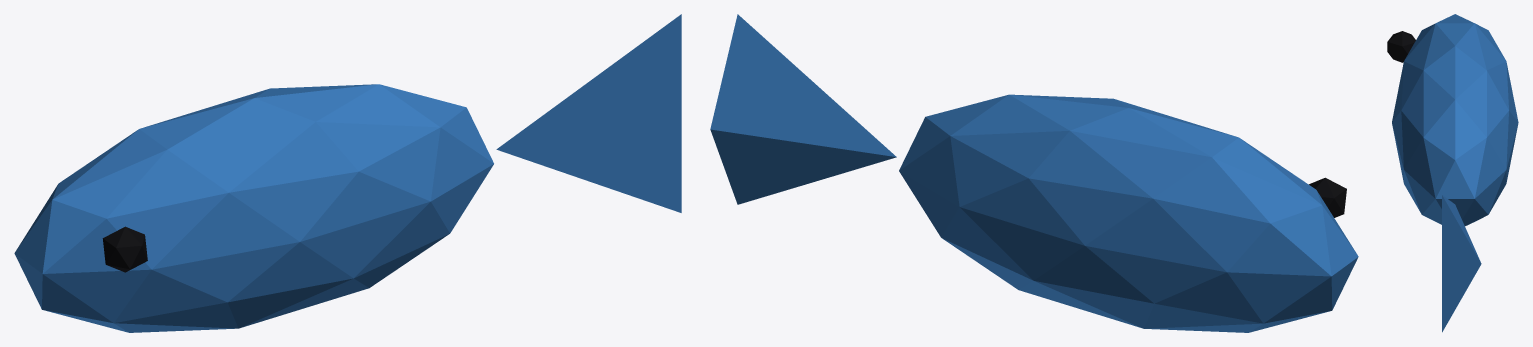
The model's file is SM_GZ_item_fish.fbx.
The picture shows the model from 3 angles, left to right: view 1: azimuth 30°, elevation 25°; view 2: azimuth 150°, elevation 25°; view 3: azimuth 270°, elevation 25°; orthographic projection. The views are drawn at different scales.
Visible parts, largest first — view 1: SM_GZ_item_fish; view 2: SM_GZ_item_fish; view 3: SM_GZ_item_fish.
Boxes of the visible parts, <box> form: SM_GZ_item_fish: <box>14,14,681,332</box>; SM_GZ_item_fish: <box>710,14,1358,332</box>; SM_GZ_item_fish: <box>1387,14,1518,332</box>.
Size of the model in its own units: 146 by 48 by 37.25.
